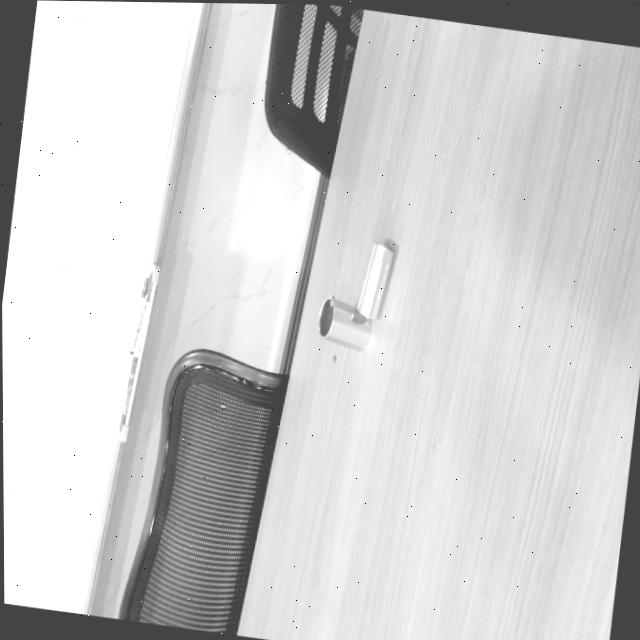Co_Lon: (310, 291, 379, 354)
Co_Nho: (354, 241, 396, 320)
